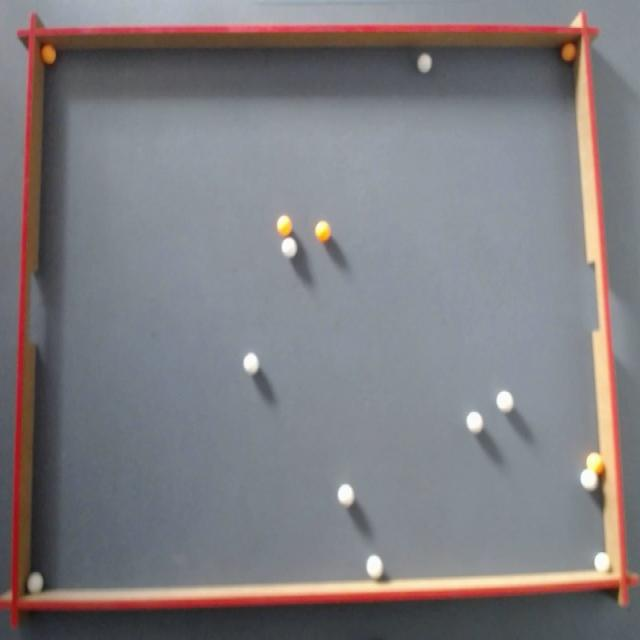orange_ball: (586, 452, 604, 476), (276, 214, 292, 236), (315, 220, 330, 242), (41, 44, 56, 64), (561, 42, 576, 62)
white_ball: (366, 554, 383, 578), (580, 468, 598, 490), (27, 571, 44, 594), (496, 391, 513, 412), (594, 552, 610, 573), (467, 411, 482, 433), (338, 484, 353, 505), (417, 53, 432, 73), (244, 352, 258, 373), (282, 238, 296, 258)
